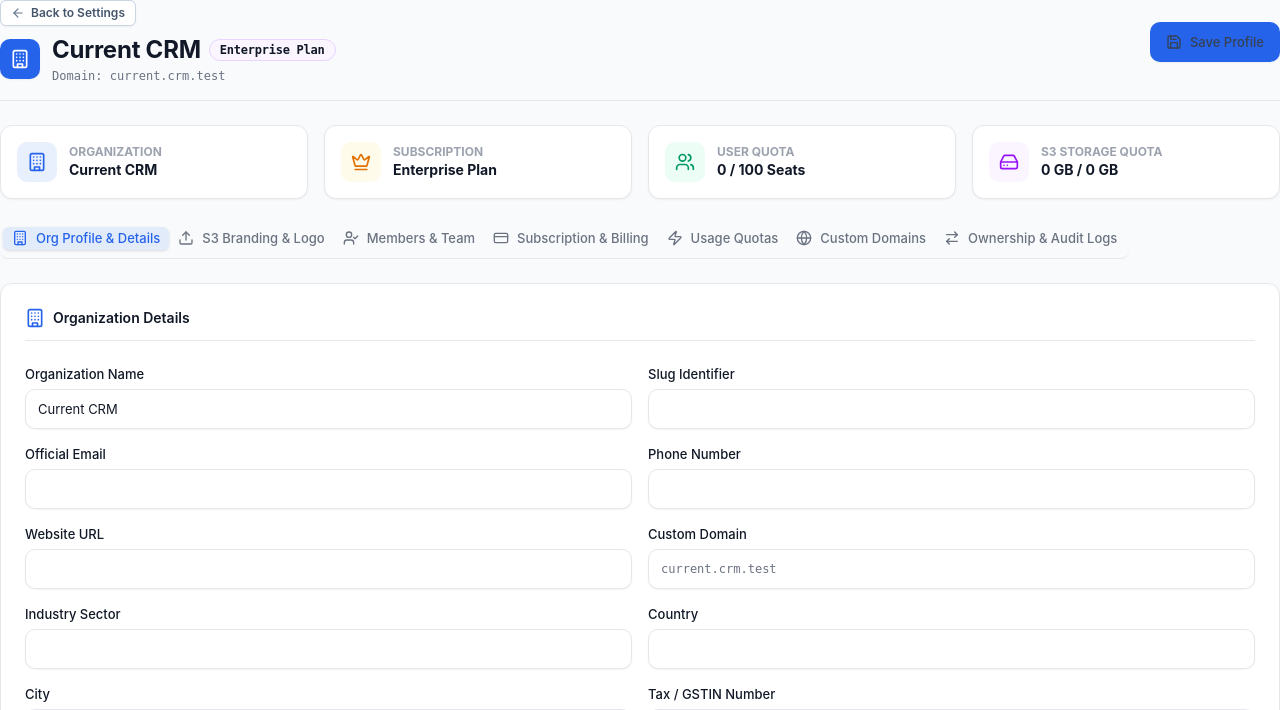
Test: Organization detail route and current organization mode › shows scheduled cancellation and resumes renewal through the API
This screenshot has width=1280, height=710.
Press the mouse on the tab "Subscription & Billing" at (571, 238), box [484, 226, 658, 250]
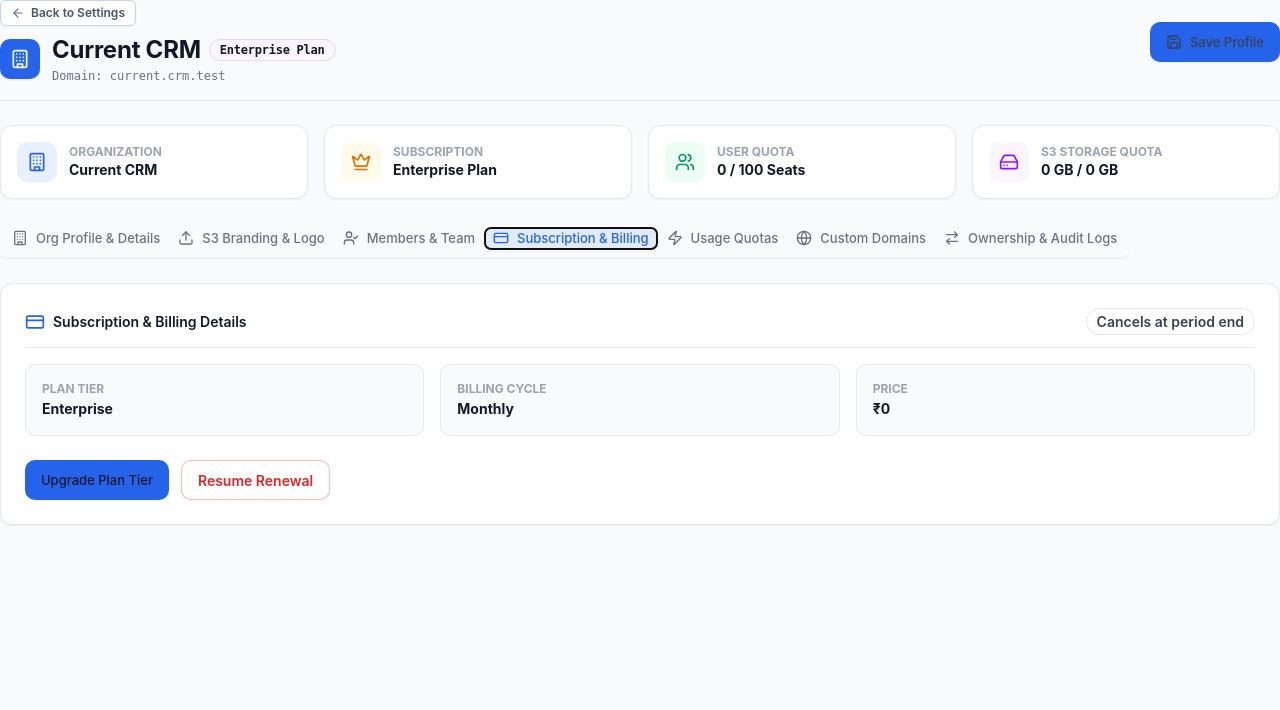
Expected: the text "Cancels at period end" is shown, [1086, 308, 1255, 335]
Click the button "Resume Renewal".
click(256, 480)  # box [181, 460, 330, 500]
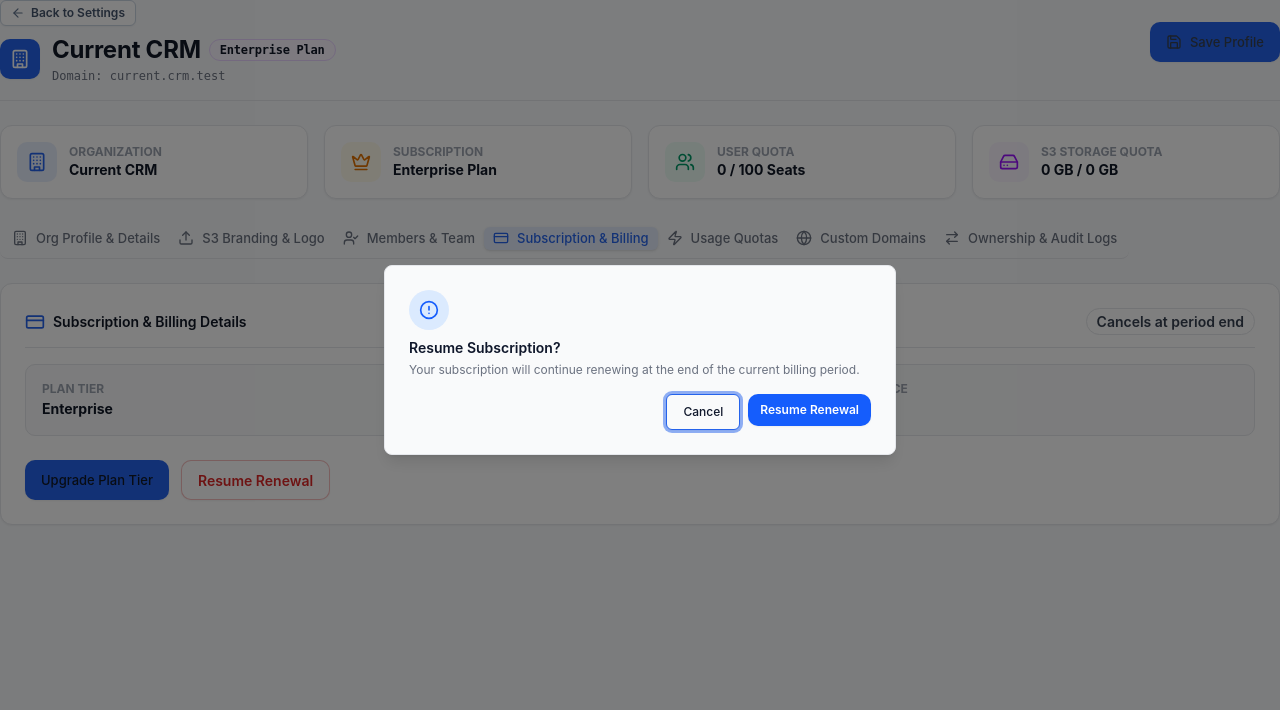
Click the button "Resume Renewal".
click(810, 410)  # box [748, 394, 871, 426]
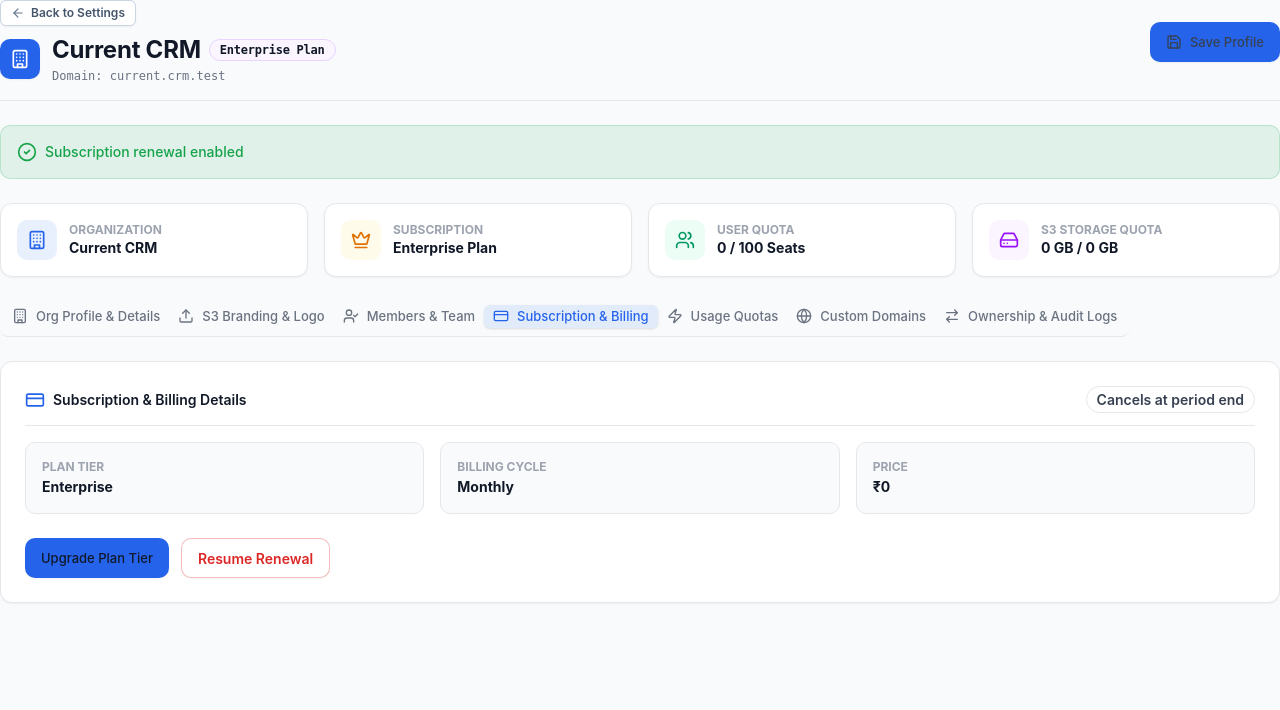
Expected: the text "Subscription renewal enabled" is shown, [45, 142, 244, 162]
